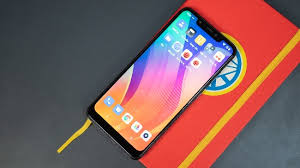vsmart: (84, 4, 237, 159)
